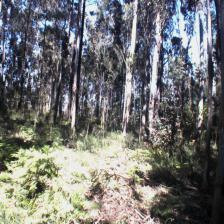trunktrack_idkeyframe: (202, 92, 212, 184)
